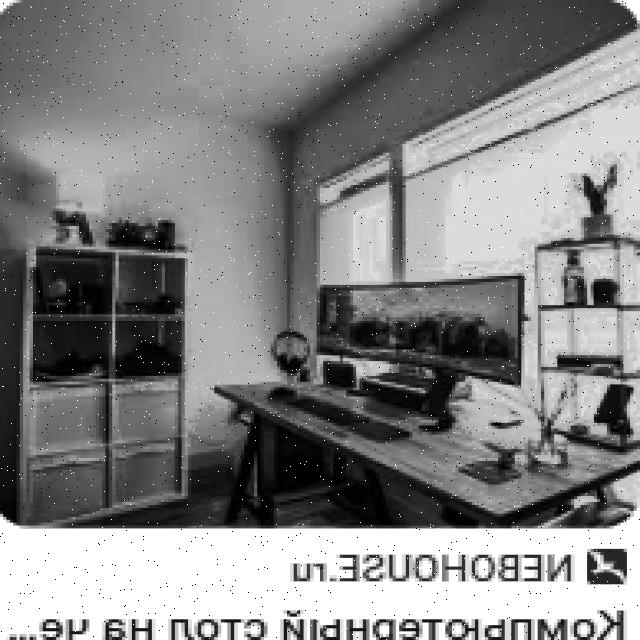table: (214, 376, 640, 525)
